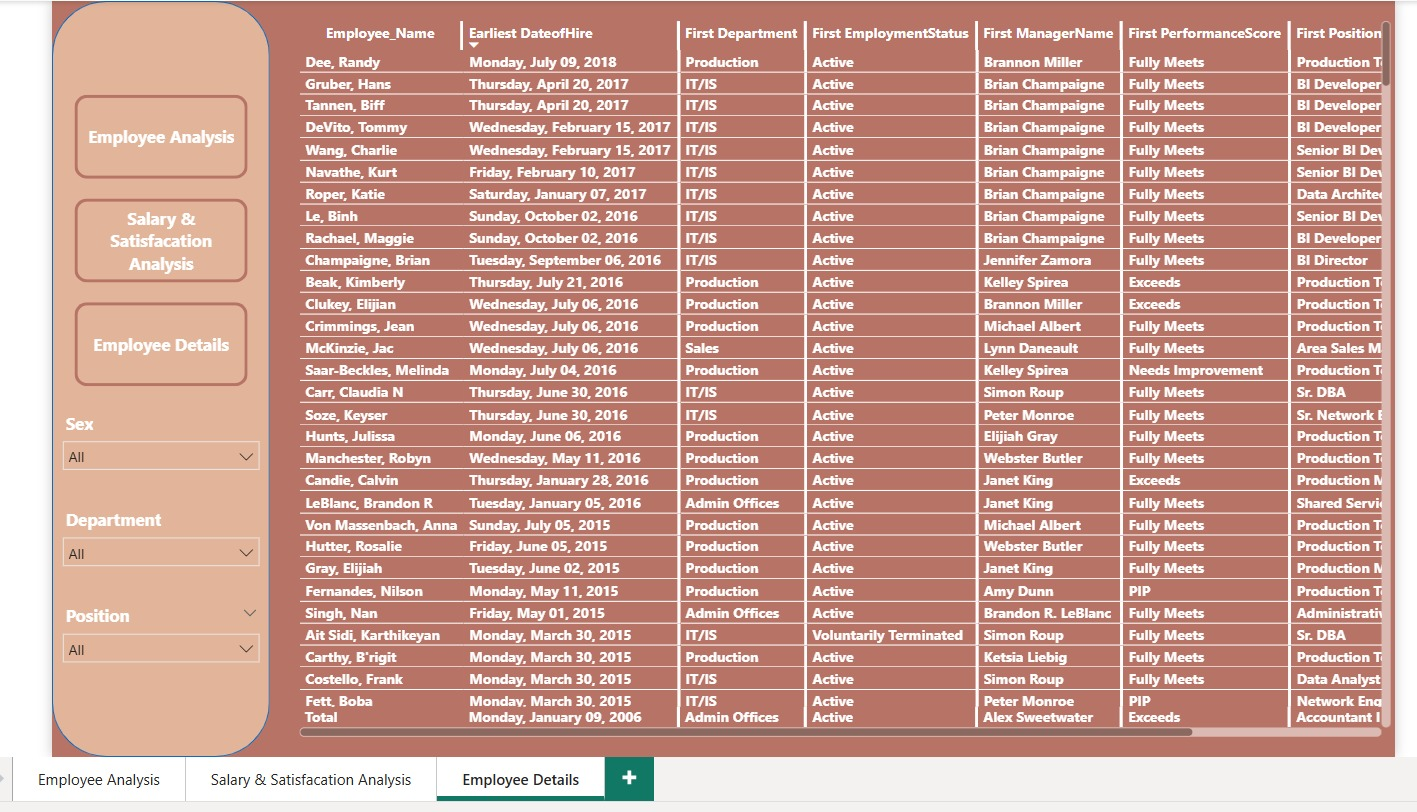

What the dashboard file says about the page in this screenshot:
{"tool":"powerbi","page":{"name":"Employee Details","canvas":[1280,720],"ordinal":2},"visuals":[{"type":"shape","box":[0,0,207.5,720],"z":0},{"type":"actionButton","box":[21.2,88.8,165,80],"z":1000},{"type":"actionButton","box":[21.2,187.8,165,80],"z":2000},{"type":"actionButton","box":[21.2,286.8,165,80],"z":3000},{"type":"slicer","fields":{"Values":["HRDataset_v14.Department"]},"box":[0,477.2,207.5,72.5],"z":4000},{"type":"slicer","fields":{"Values":["HRDataset_v14.Position"]},"box":[0,568.8,207.5,75],"z":5000},{"type":"slicer","fields":{"Values":["HRDataset_v14.Sex"]},"box":[0,385.8,207.5,72.5],"z":6000},{"type":"pivotTable","fields":{"Rows":["HRDataset_v14.Employee_Name"],"Values":["Min(HRDataset_v14.DateofHire)","Min(HRDataset_v14.Department)","Min(HRDataset_v14.EmploymentStatus)","Min(HRDataset_v14.ManagerName)","Min(HRDataset_v14.PerformanceScore)","Min(HRDataset_v14.Position)","Sum(HRDataset_v14.Salary)"]},"box":[231,14.3,1048.8,691.7],"z":7000}]}

Visuals, with their boxes on the page's 1280x720 design canvas (x1, y1, x2, y2). These are canvas units, not pixel positions in the 1417x812 screenshot, which may show the page scaled, cropped or inside an application window:
shape: x1=0, y1=0, x2=208, y2=720
actionButton: x1=21, y1=89, x2=186, y2=169
actionButton: x1=21, y1=188, x2=186, y2=268
actionButton: x1=21, y1=287, x2=186, y2=367
slicer - HRDataset_v14.Department: x1=0, y1=477, x2=208, y2=550
slicer - HRDataset_v14.Position: x1=0, y1=569, x2=208, y2=644
slicer - HRDataset_v14.Sex: x1=0, y1=386, x2=208, y2=458
pivotTable - HRDataset_v14.Employee_Name x Min(HRDataset_v14.DateofHire): x1=231, y1=14, x2=1280, y2=706
